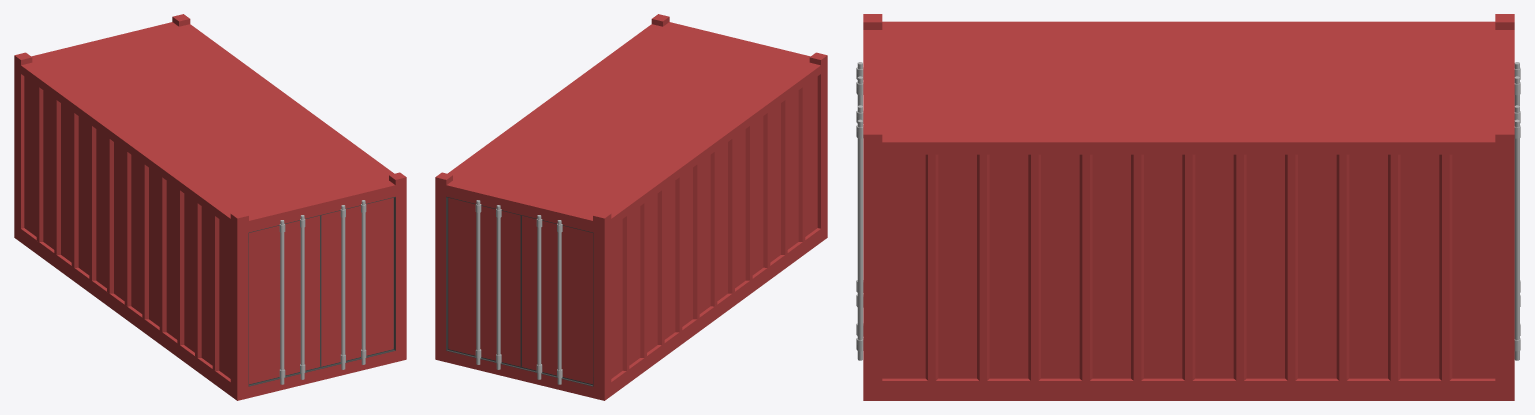
Rendered from container_1.fbx.
3 renders of one model, left to right at view 1: azimuth 30°, elevation 25°; view 2: azimuth 150°, elevation 25°; view 3: azimuth 270°, elevation 25°, orthographic. The views are drawn at different scales.
Visible parts, largest first — view 1: sweet_ass_container; view 2: sweet_ass_container; view 3: sweet_ass_container.
Boxes of the visible parts, x1,y1,x2,y2 form: sweet_ass_container: (14,14,406,400); sweet_ass_container: (435,14,827,400); sweet_ass_container: (856,14,1520,400).
Bounding box in the file's own units: 1 × 1.03 × 2.33.
1 material, 1 textured.
